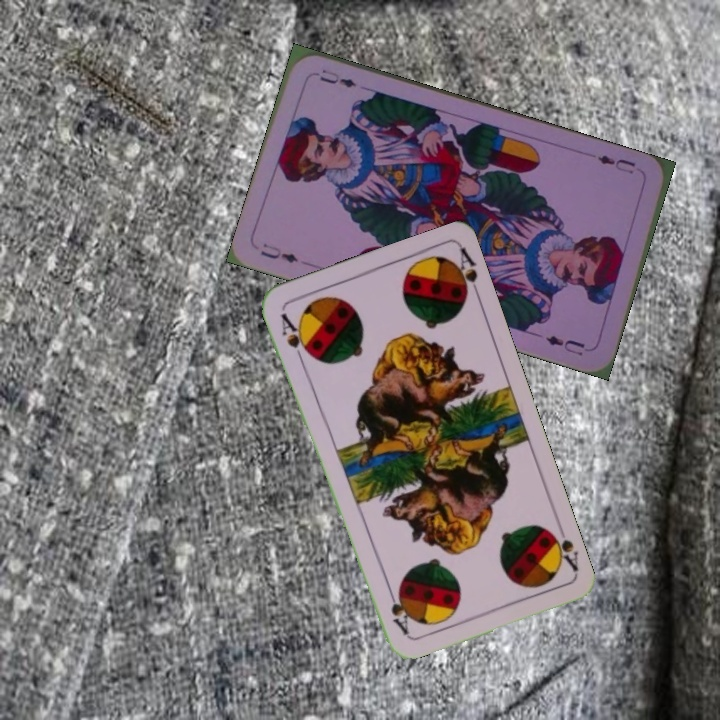EU: (593, 150, 638, 177), (256, 239, 301, 266)
SA: (541, 518, 581, 575), (277, 308, 313, 364)
